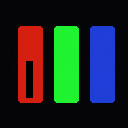4 line_v: (26, 61, 32, 97)
